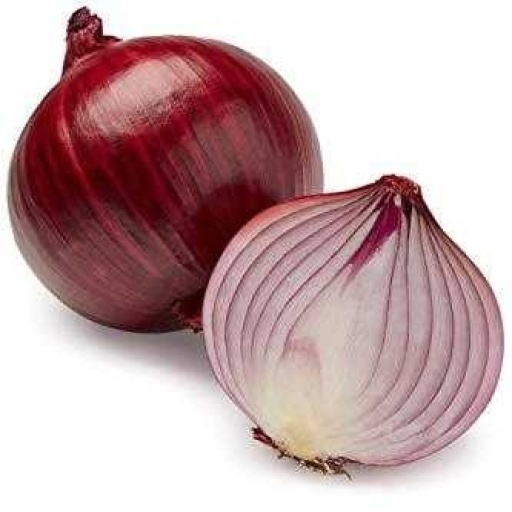Zwiebel: (6, 6, 324, 335), (202, 173, 505, 479)
